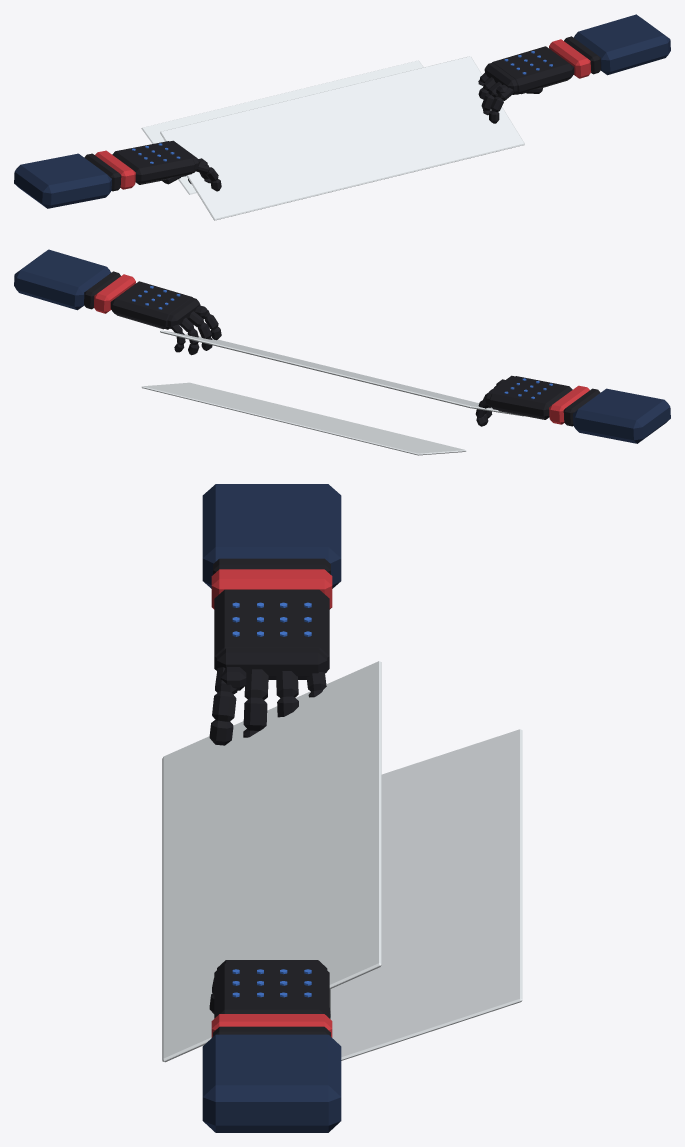
File: hands_holding_izolon.glb
The picture shows the model from 3 angles, top to bottom: view 1: azimuth 30°, elevation 25°; view 2: azimuth 150°, elevation 25°; view 3: azimuth 270°, elevation 25°; orthographic projection. The views are drawn at different scales.
Parts seen in each view (by area): view 1: IzolonStrip, LeftSleeve, RightSleeve, IzolonStripBack, LeftPalm, RightPalm, RightCuffRed, LeftCuffRed, RightWristBand, RightKnuckles, LeftWristBand; view 2: IzolonStripBack, LeftSleeve, RightSleeve, IzolonStrip, LeftPalm, RightPalm, RightCuffRed, LeftCuffRed, RightKnuckles, RightWristBand, LeftWristBand; view 3: IzolonStrip, IzolonStripBack, RightSleeve, LeftSleeve, LeftPalm, RightPalm, LeftCuffRed, LeftKnuckles, RightCuffRed, LeftWristBand, RightWristBand.
Boxes of the visible parts, x1=… form: IzolonStrip: x1=160, y1=56, x2=524, y2=220; LeftSleeve: x1=14, y1=153, x2=111, y2=208; RightSleeve: x1=573, y1=14, x2=670, y2=75; IzolonStripBack: x1=141, y1=60, x2=423, y2=194; LeftPalm: x1=112, y1=141, x2=195, y2=184; RightPalm: x1=492, y1=46, x2=574, y2=94; RightCuffRed: x1=549, y1=39, x2=591, y2=78; LeftCuffRed: x1=95, y1=150, x2=135, y2=189; RightWristBand: x1=564, y1=36, x2=600, y2=74; RightKnuckles: x1=484, y1=62, x2=517, y2=92; LeftWristBand: x1=84, y1=153, x2=121, y2=191; IzolonStripBack: x1=141, y1=382, x2=466, y2=455; LeftSleeve: x1=573, y1=388, x2=670, y2=443; RightSleeve: x1=14, y1=249, x2=111, y2=310; IzolonStrip: x1=160, y1=330, x2=523, y2=416; LeftPalm: x1=489, y1=376, x2=572, y2=419; RightPalm: x1=110, y1=281, x2=192, y2=329; RightCuffRed: x1=94, y1=274, x2=135, y2=313; LeftCuffRed: x1=549, y1=385, x2=589, y2=424; RightKnuckles: x1=167, y1=297, x2=200, y2=328; RightWristBand: x1=84, y1=271, x2=120, y2=309; LeftWristBand: x1=563, y1=388, x2=600, y2=426; IzolonStrip: x1=162, y1=661, x2=381, y2=1062; IzolonStripBack: x1=329, y1=729, x2=522, y2=1060; RightSleeve: x1=202, y1=1034, x2=341, y2=1132; LeftSleeve: x1=202, y1=484, x2=341, y2=588; LeftPalm: x1=214, y1=589, x2=329, y2=670; RightPalm: x1=214, y1=963, x2=329, y2=1018; LeftCuffRed: x1=211, y1=569, x2=332, y2=609; LeftKnuckles: x1=217, y1=648, x2=327, y2=679; RightCuffRed: x1=211, y1=1014, x2=332, y2=1037; LeftWristBand: x1=213, y1=558, x2=330, y2=574; RightWristBand: x1=213, y1=1026, x2=330, y2=1036.
Size of the model in its own units: 1.13 by 0.1243 by 0.2807.
